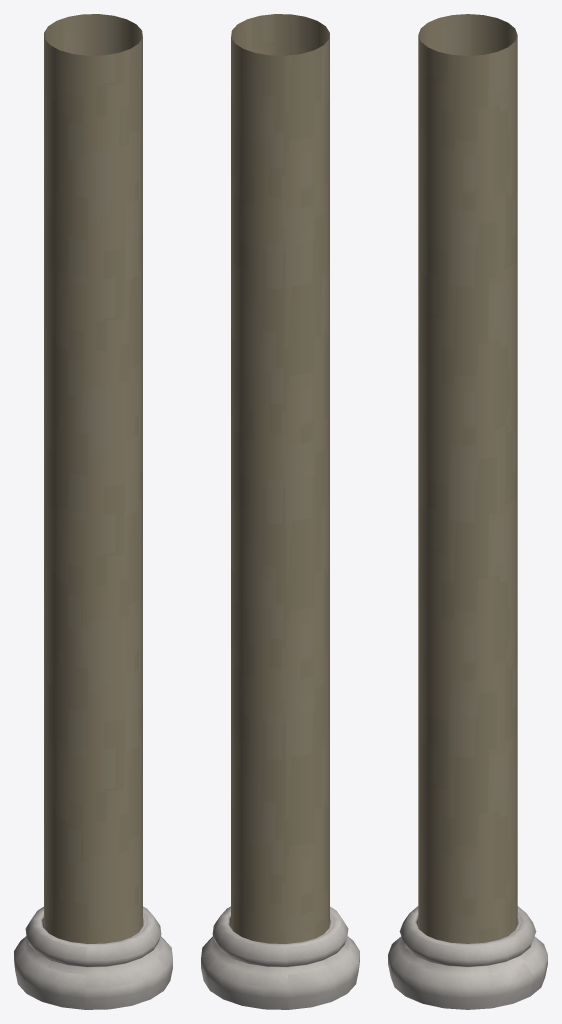
The model's file is pole.fbx.
3 views of the same model, side by side, from view 1: azimuth 30°, elevation 25°; view 2: azimuth 150°, elevation 25°; view 3: azimuth 270°, elevation 25° (orthographic).
Visible parts, largest first — view 1: polySurface1; view 2: polySurface1; view 3: polySurface1.
Boxes of the visible parts, x1,y1,x2,y2 form: polySurface1: (14,14,172,1009); polySurface1: (201,14,359,1009); polySurface1: (388,14,547,1009).
Size of the model in its own units: 1.22 by 7.96 by 1.22.
2 materials, 2 textured.
